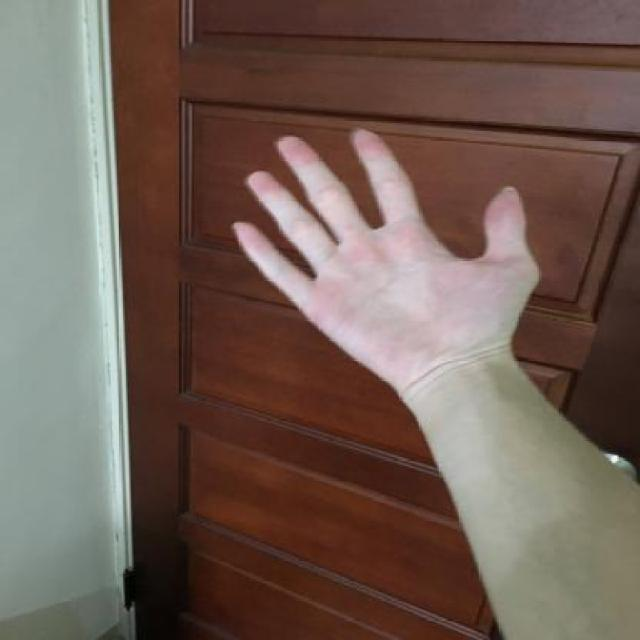no_glove: (225, 116, 552, 409)
